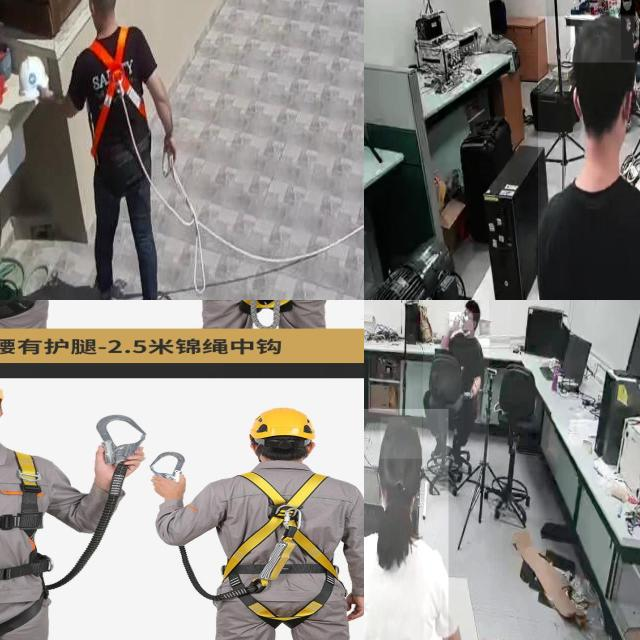Harness: (230, 468, 340, 620), (0, 451, 41, 640), (89, 27, 147, 158), (94, 412, 147, 472), (148, 450, 190, 486)
face_mask: (619, 0, 636, 10)
face_nomask: (462, 314, 474, 331)
hand_noglove: (449, 312, 462, 332)
head_nohelmet: (570, 14, 636, 64), (380, 417, 422, 459), (464, 300, 481, 313)
person: (538, 16, 640, 300), (364, 409, 449, 640), (422, 300, 489, 467), (621, 0, 640, 59)
